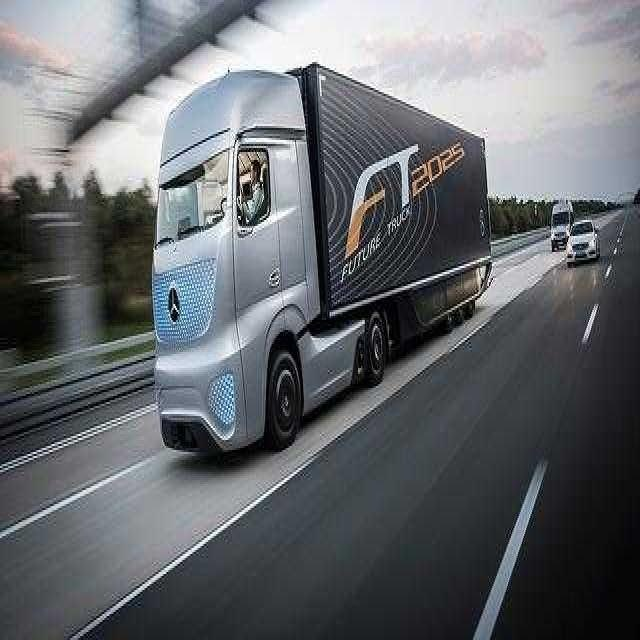Truck: (154, 55, 491, 461)
